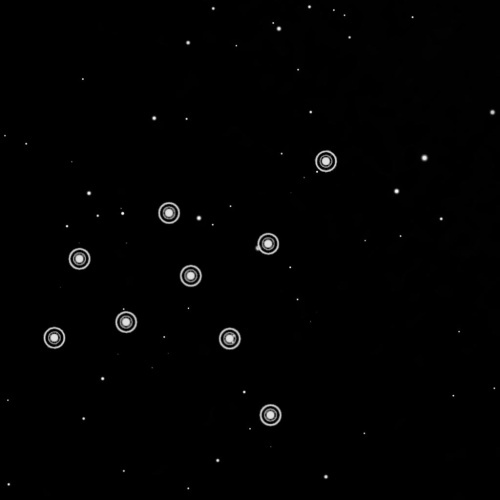cygnus: (38, 143, 341, 431)
